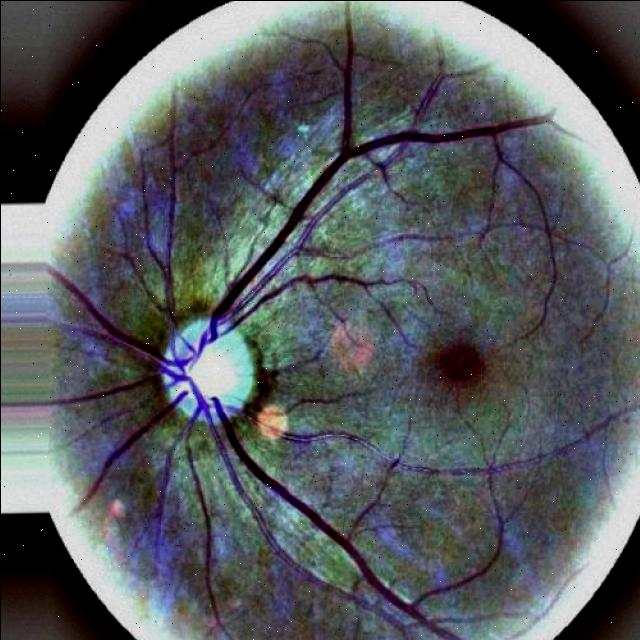Macula: (435, 342, 480, 381)
Nerves: (77, 137, 372, 504), (209, 22, 548, 339), (214, 401, 425, 622), (0, 316, 219, 406), (51, 269, 100, 319), (470, 116, 539, 136), (152, 389, 191, 419), (373, 134, 467, 145), (479, 123, 518, 132)
Optic Disk: (163, 316, 256, 420)
